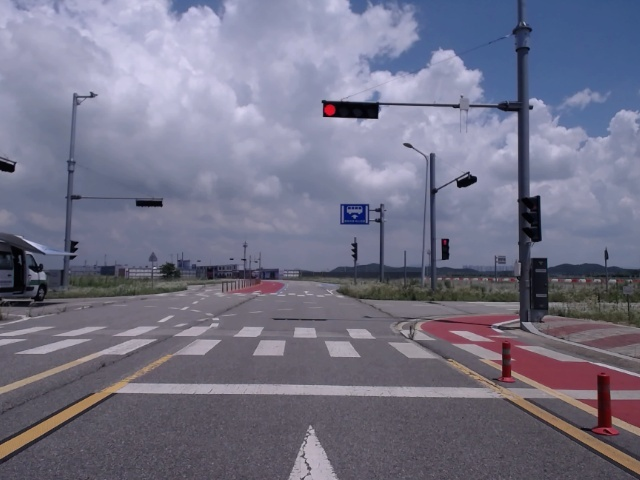red_4: (323, 103, 378, 119)
